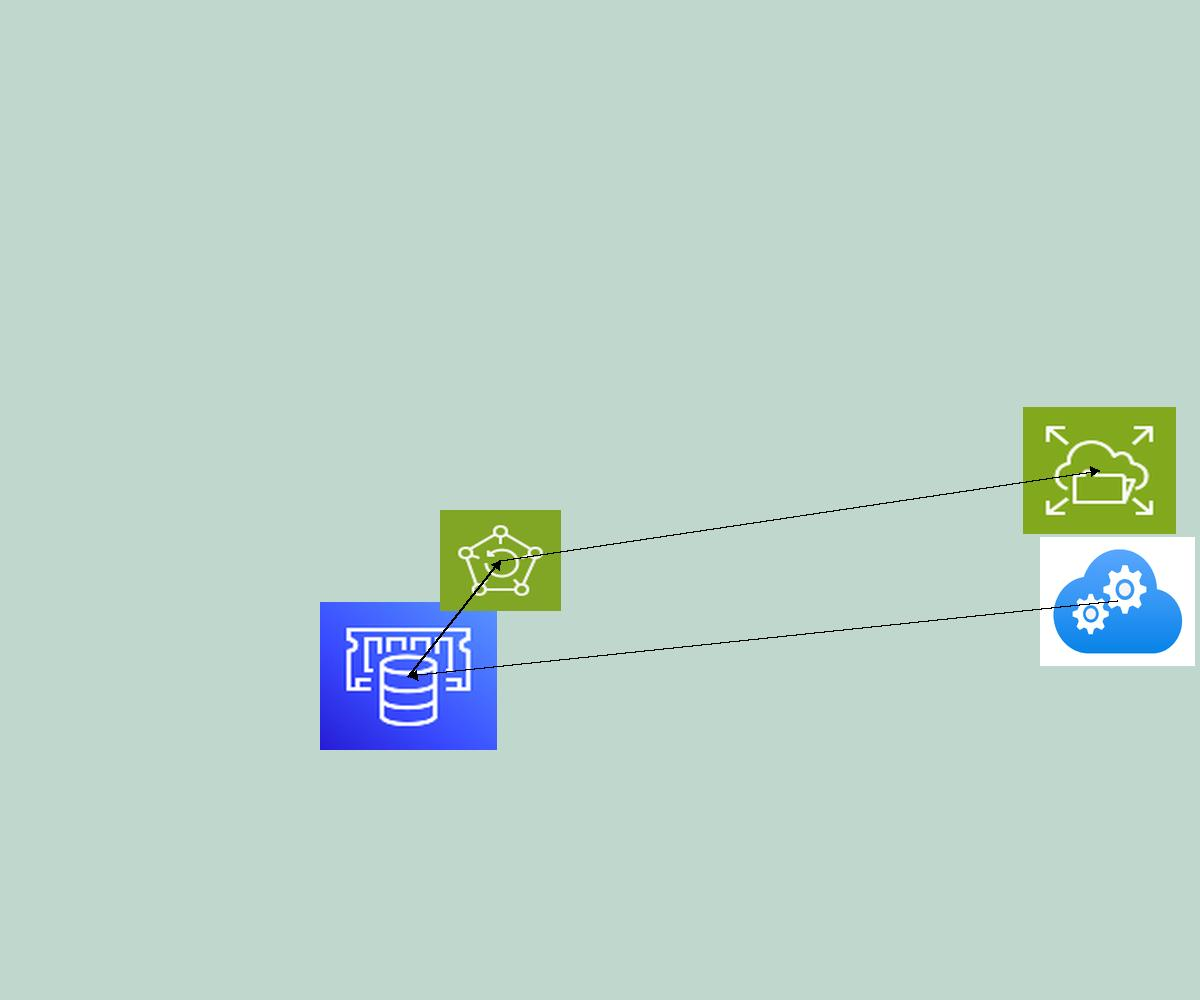AWS-Backup: (440, 510, 561, 611)
AWS-EFS: (1023, 407, 1176, 534)
AWS-ElastiCache: (320, 602, 497, 750)
Azure_cloud_services: (1040, 537, 1195, 666)
